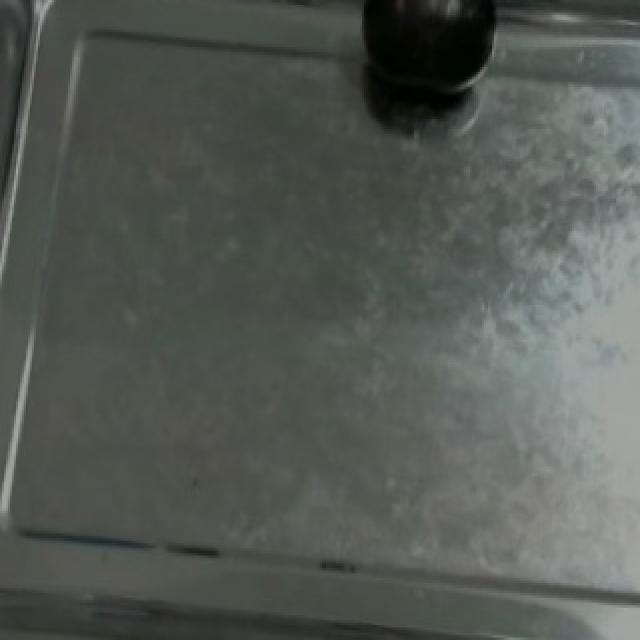Fruit: (350, 0, 510, 117)
